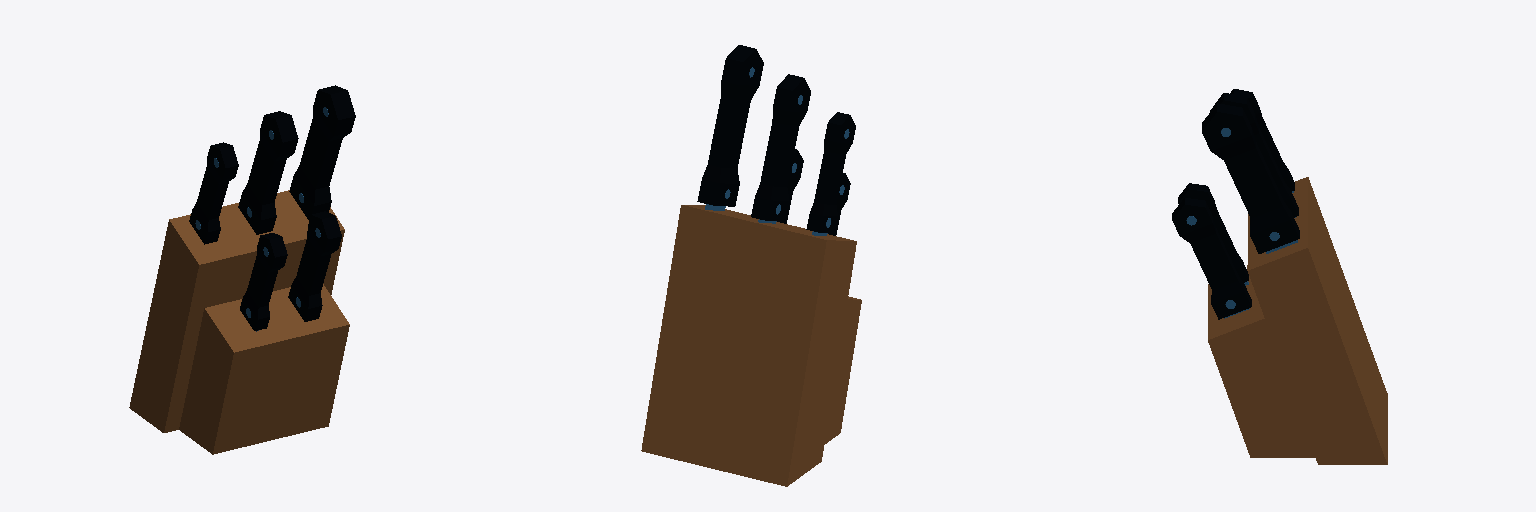
The model's file is knives.obj.
The picture shows the model from 3 angles: view 1: azimuth 30°, elevation 25°; view 2: azimuth 150°, elevation 25°; view 3: azimuth 270°, elevation 25°; orthographic projection.
Parts seen in each view (by area): view 1: knives; view 2: knives; view 3: knives.
Boxes of the visible parts, x1,y1,x2,y2 form: knives: [129, 85, 355, 454]; knives: [641, 45, 861, 486]; knives: [1172, 89, 1387, 464].
Size of the model in its own units: 13.67 by 31.12 by 17.49.